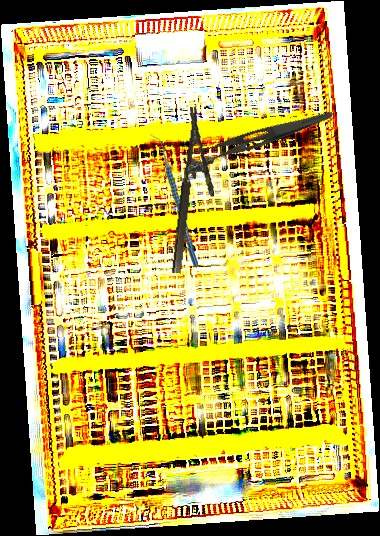Chopper: (143, 132, 205, 268)
Dressing Forceps: (184, 95, 335, 175)
Needle Holder: (169, 106, 225, 277)
